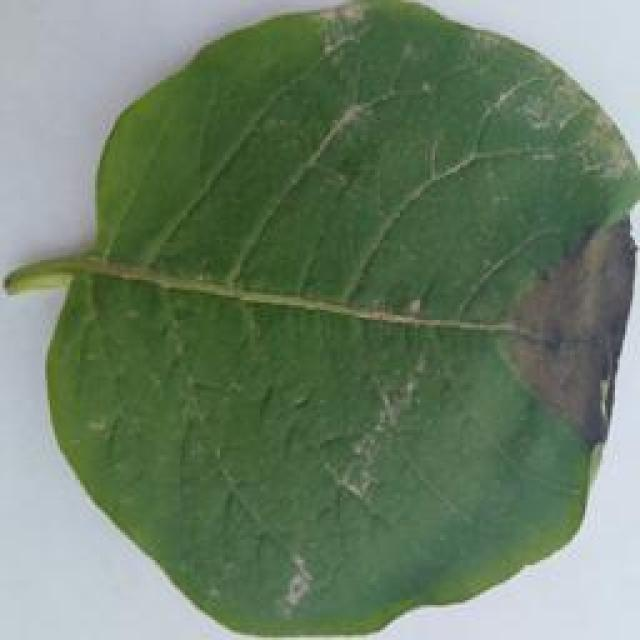Potato_Late_Blight: (4, 5, 630, 636)
